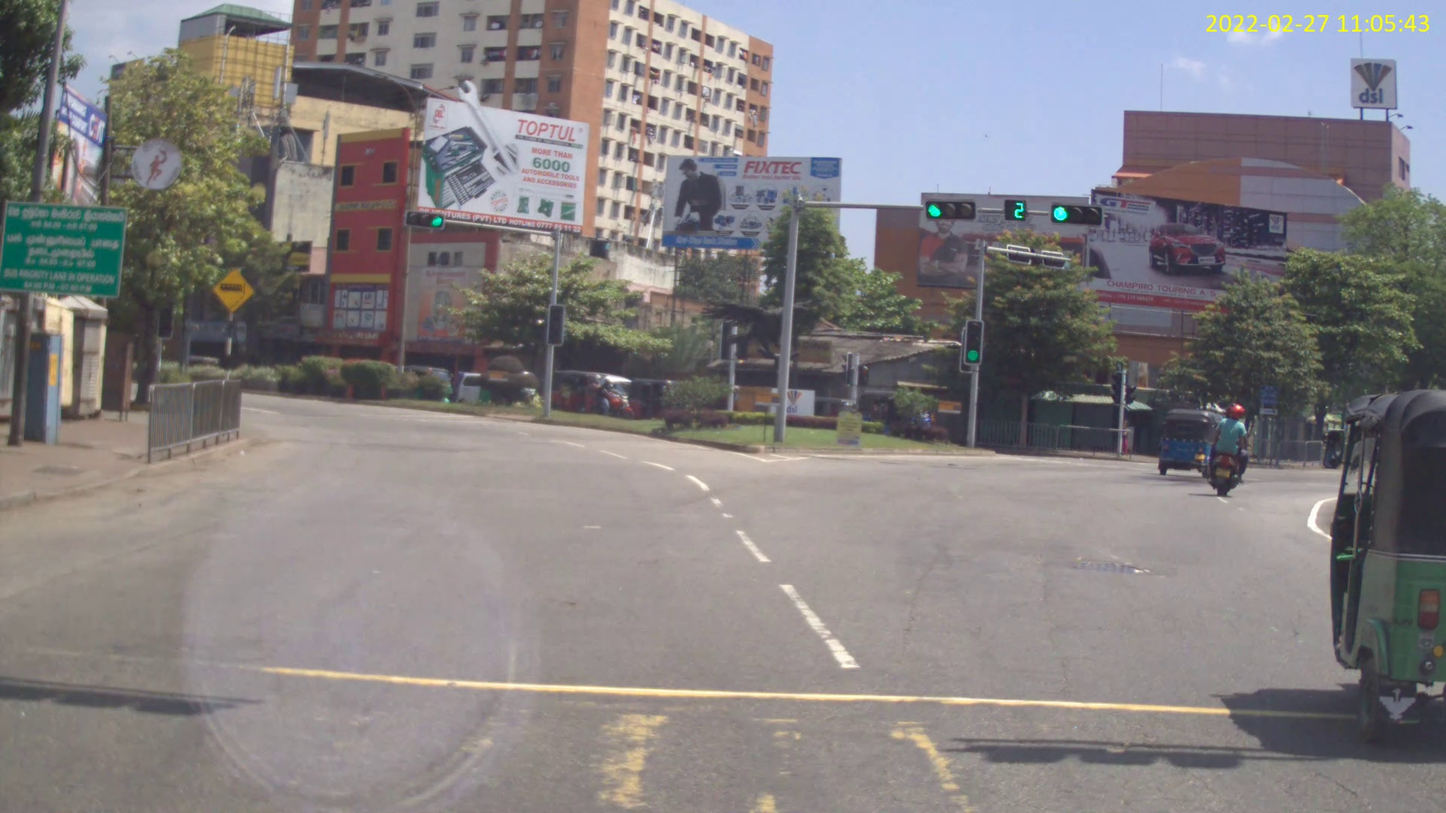Count-down: (1003, 199, 1026, 221)
Empty: (546, 303, 565, 346)
Green: (1049, 202, 1103, 228), (923, 199, 977, 221), (963, 319, 984, 365), (404, 210, 445, 230)
